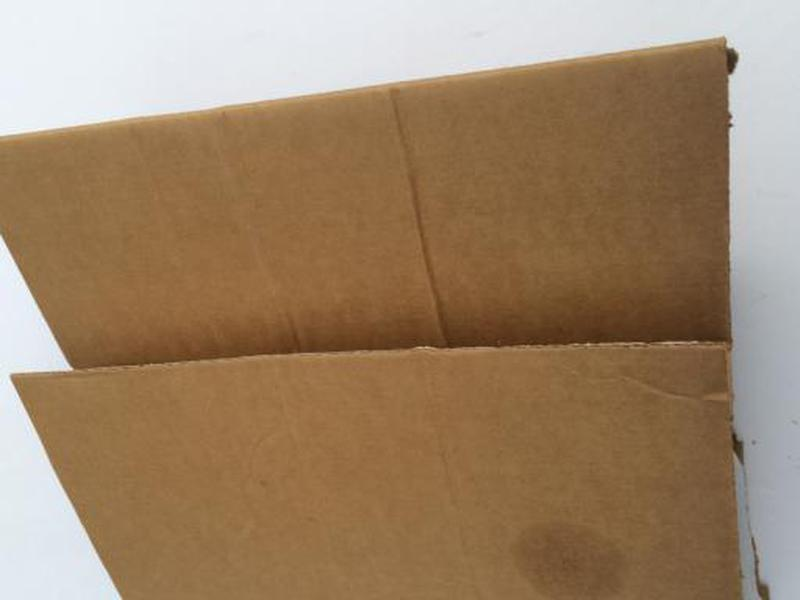cardboard: (1, 30, 773, 600)
